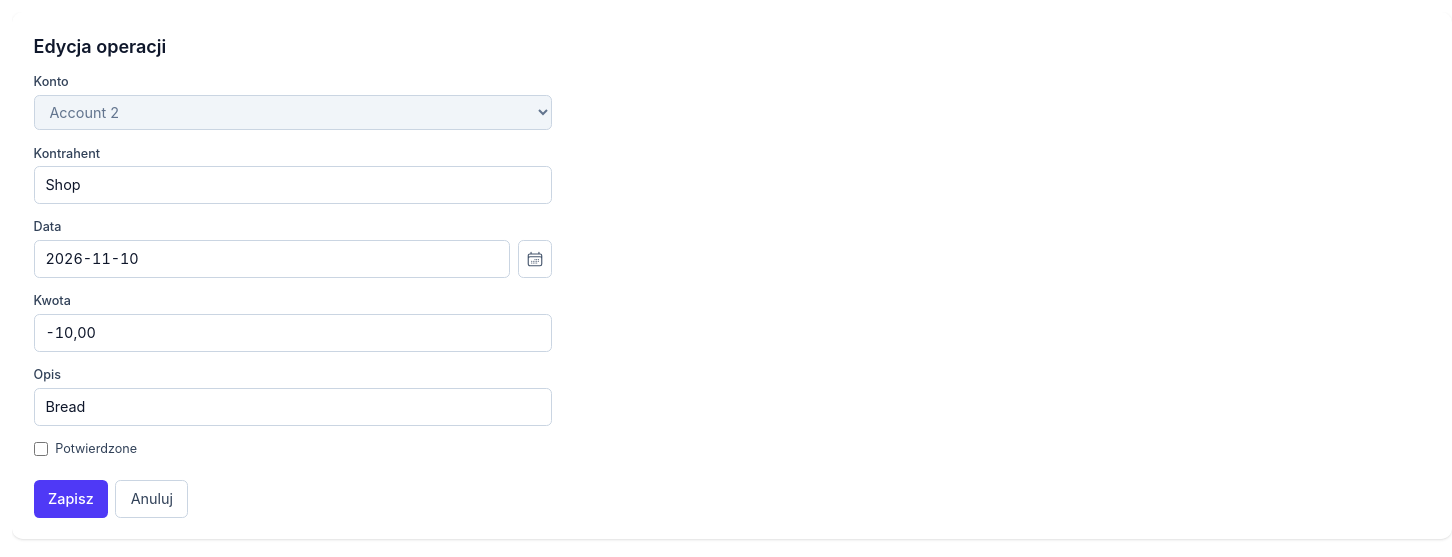
Test case: EditOperationPage › saves the changes, then shows the operation highlighted in the history of its account
This screenshot has width=1452, height=557.
Click the checkbox labelled "Potwierdzone". click: (41, 449)
box: [34,442,48,456]
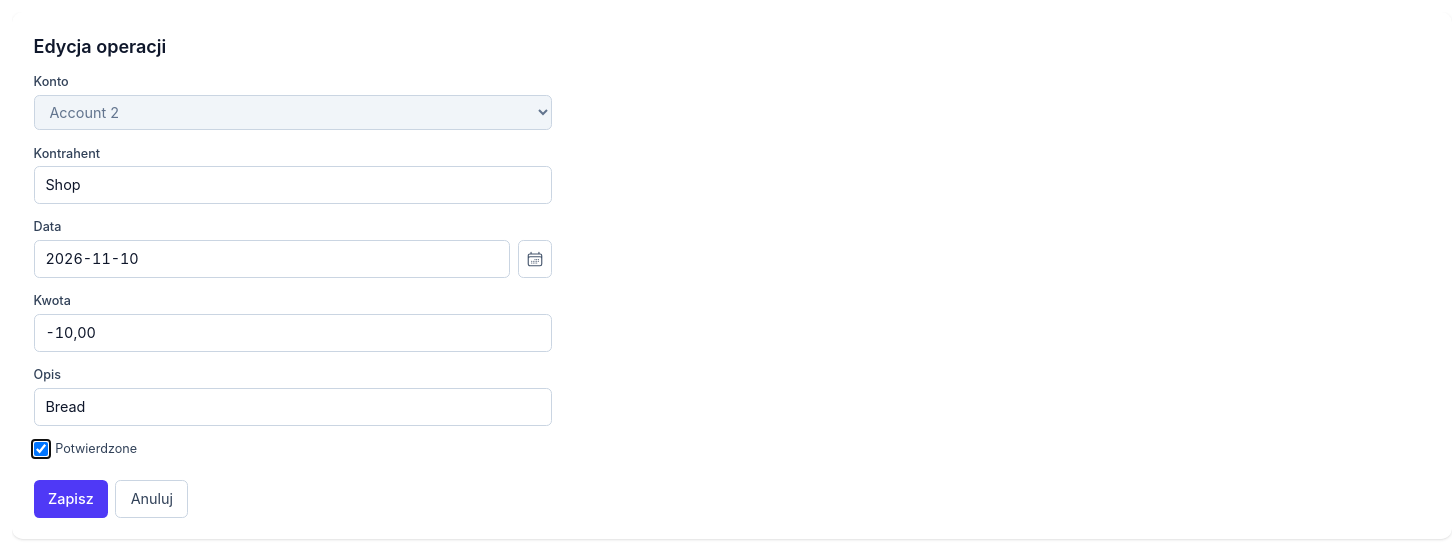
Click the button "Zapisz". click: (71, 499)
box: [34,480,108,518]
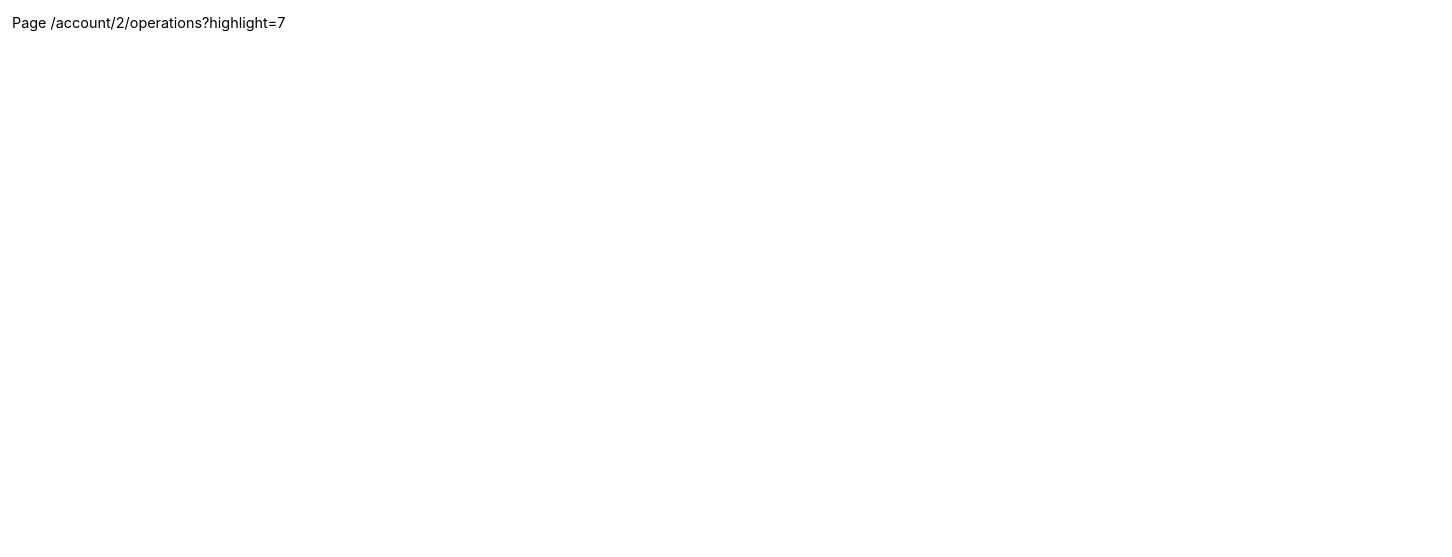
Check: the text "Page /account/2/operations?highlight=7" is shown, box [12,14,285,31]
